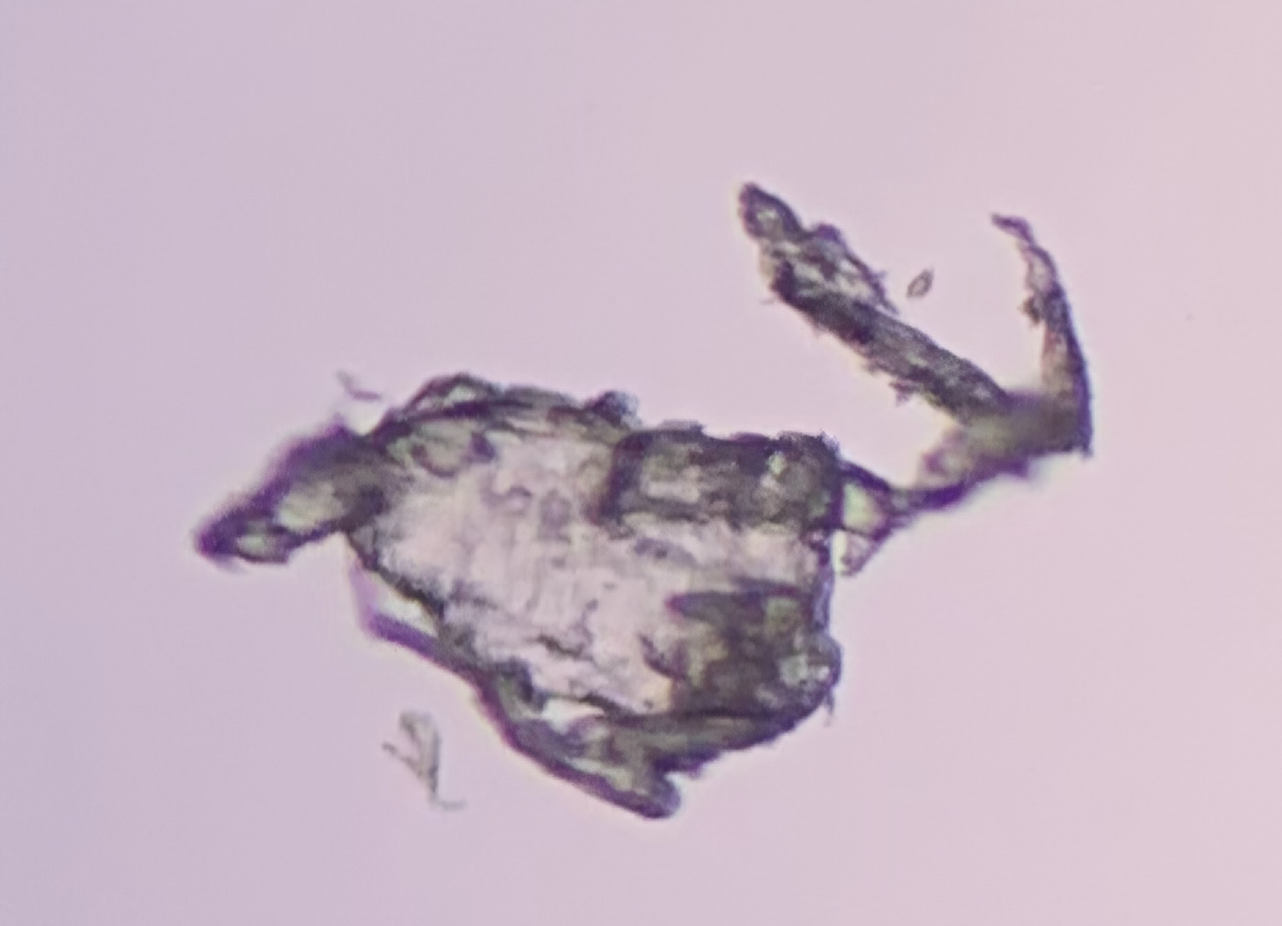microplastic: (190, 178, 1096, 825)
